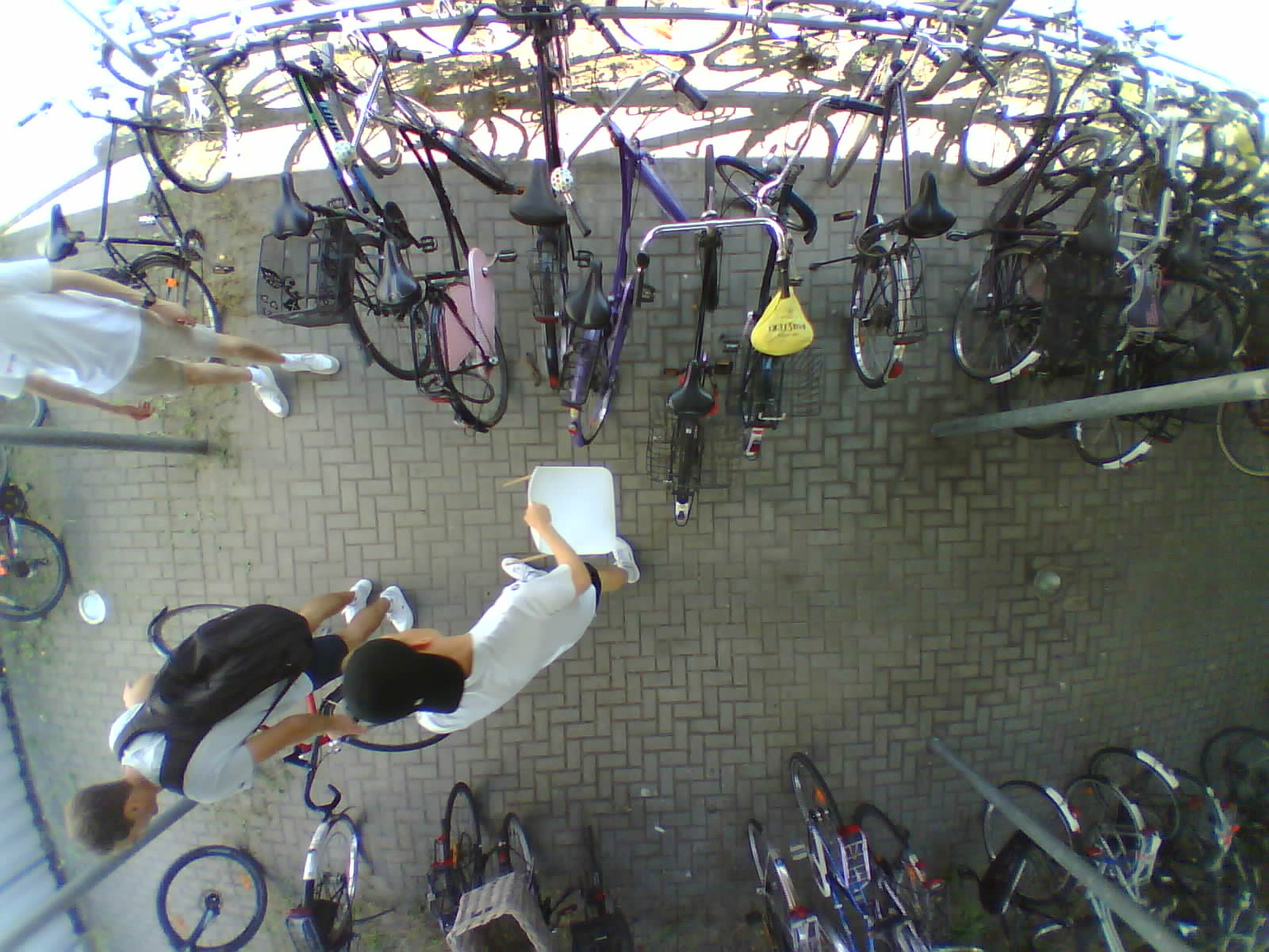bicylce: (236, 29, 443, 381), (353, 88, 535, 425), (557, 68, 686, 445), (75, 65, 232, 357), (950, 39, 1061, 387), (648, 141, 741, 527), (1003, 130, 1118, 433), (720, 138, 823, 458), (828, 52, 924, 386), (518, 8, 596, 377)
saddle: (891, 163, 970, 248), (745, 273, 819, 355), (661, 352, 733, 429), (509, 153, 579, 230), (370, 234, 436, 312), (1116, 268, 1185, 337), (559, 257, 621, 332), (264, 172, 321, 243), (1080, 185, 1131, 263), (34, 197, 93, 264), (1163, 223, 1207, 281)
